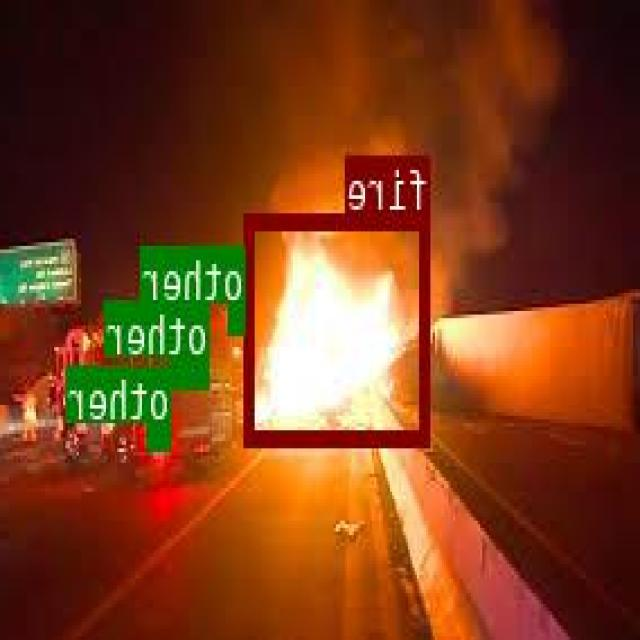fire: (247, 213, 431, 443)
other: (173, 357, 211, 384), (149, 422, 173, 446), (230, 304, 248, 332)
